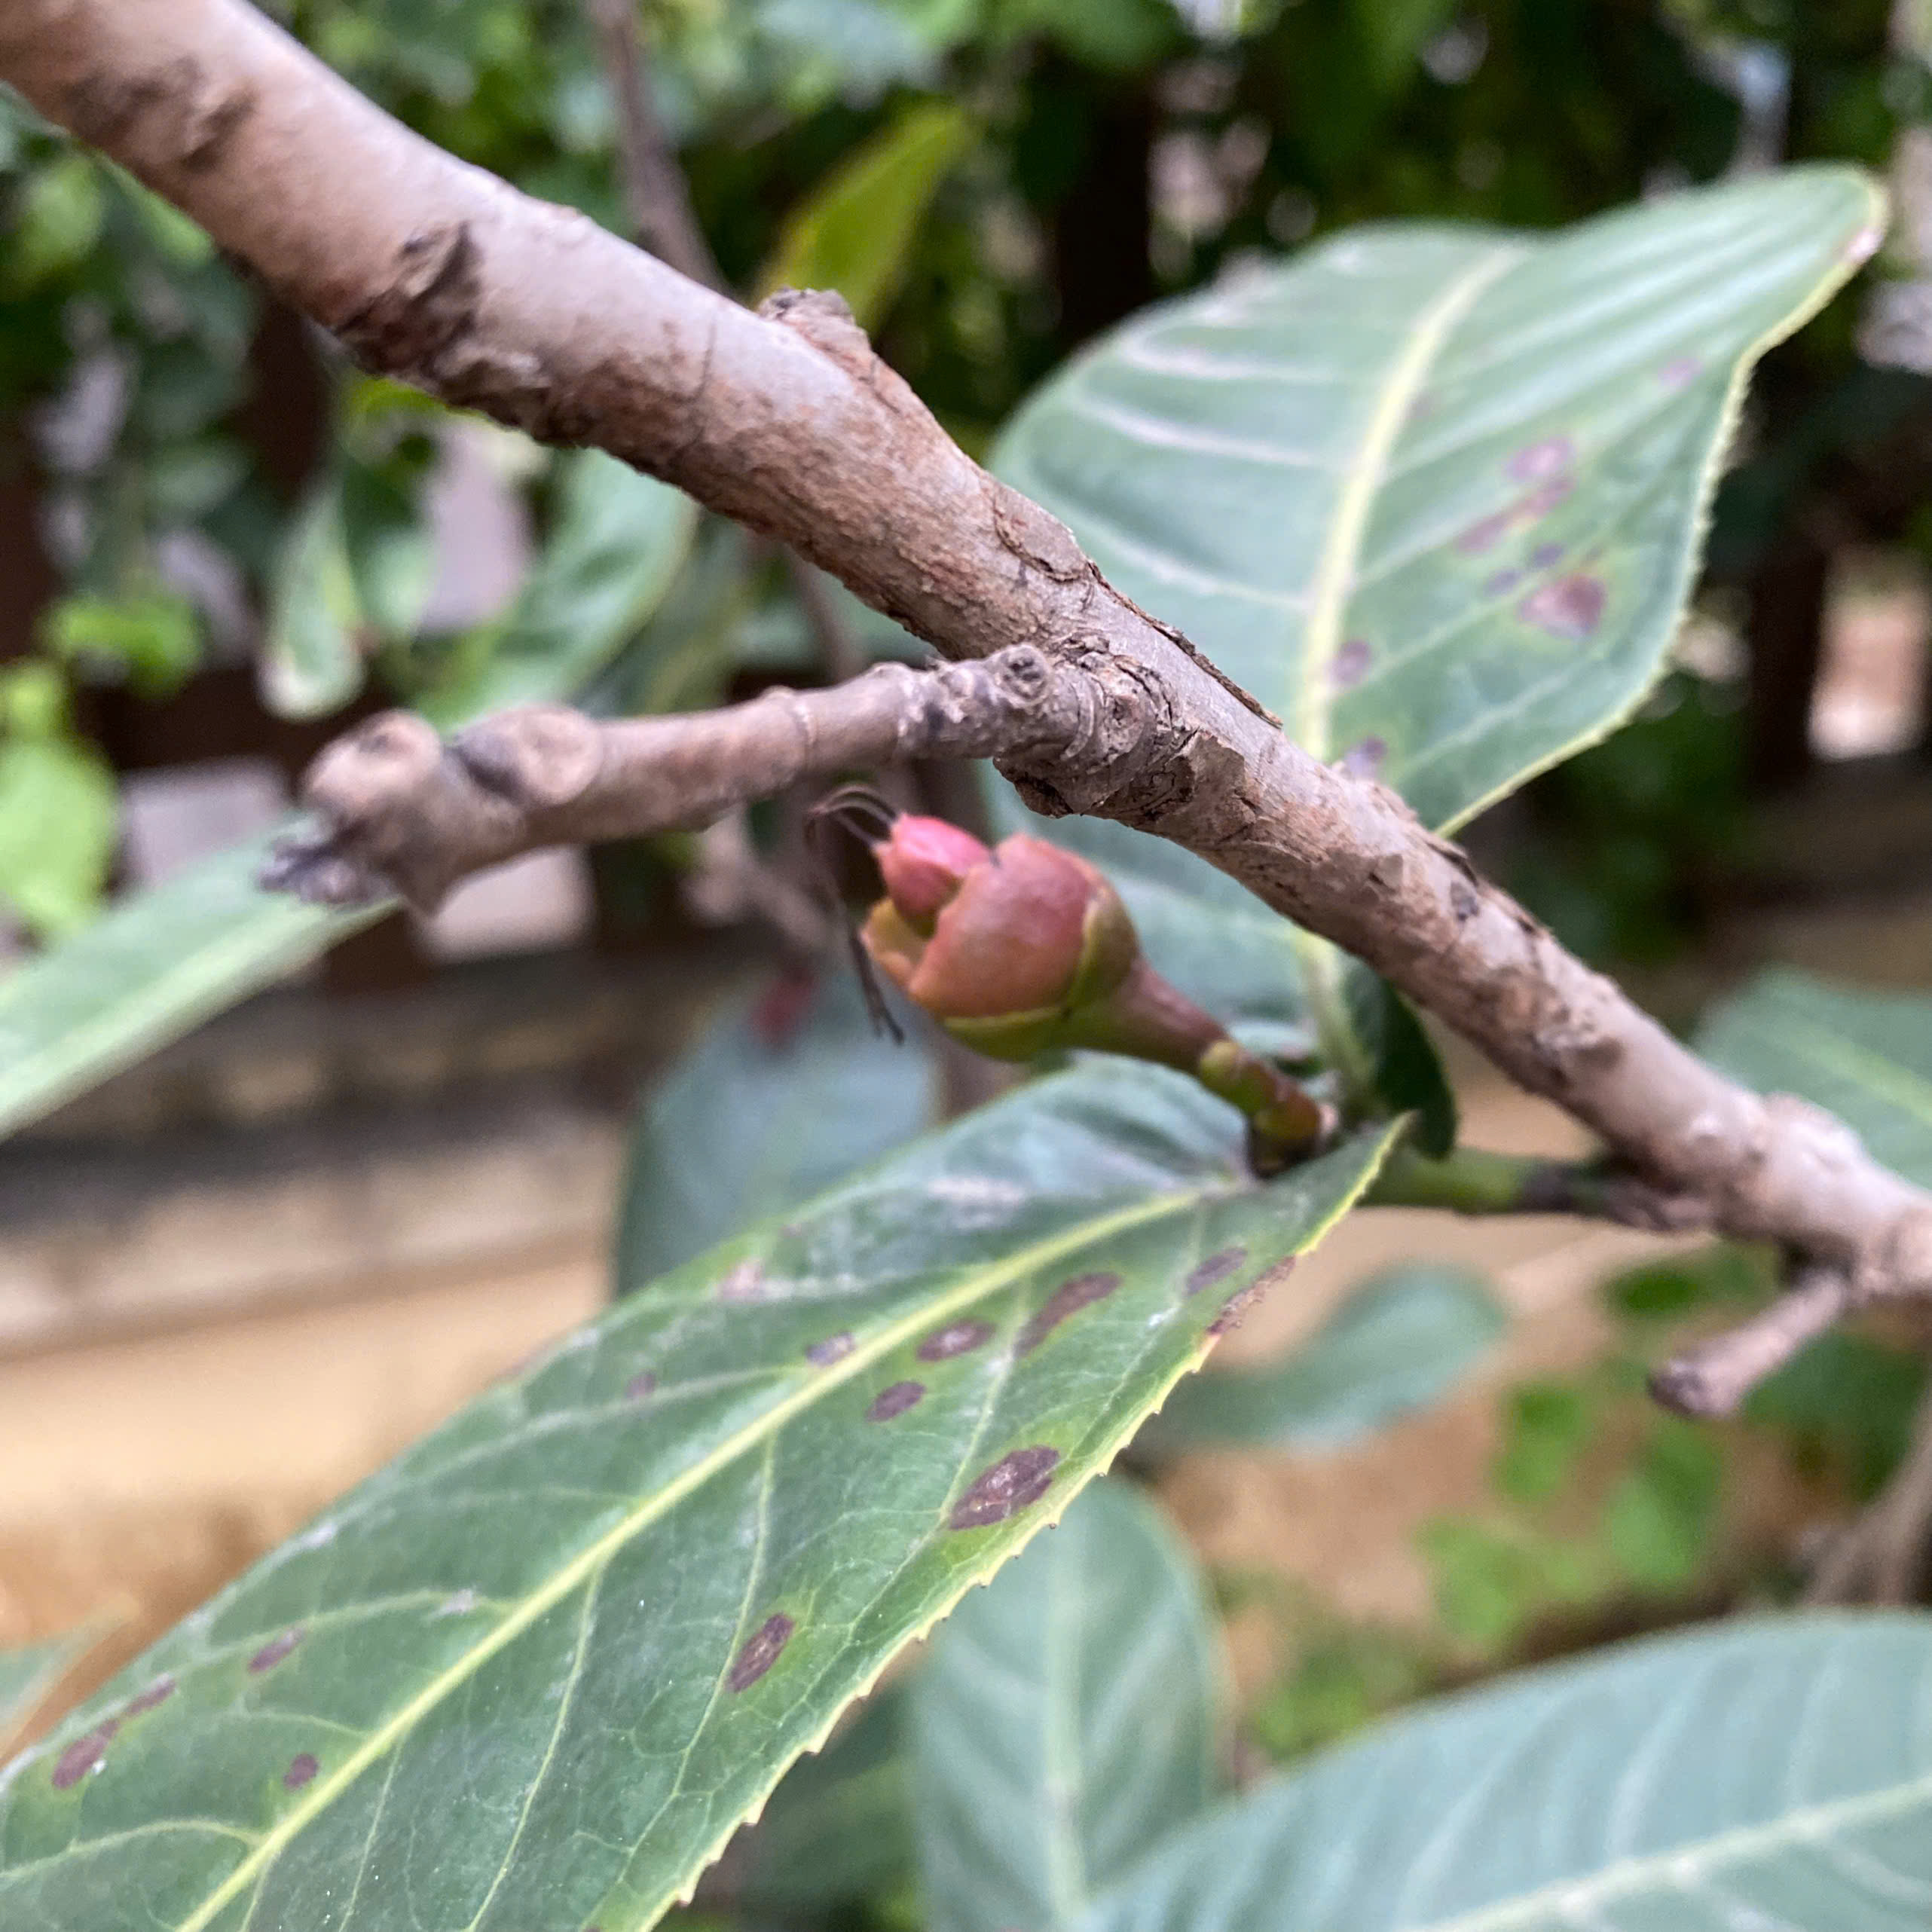hoa_hai_duong: (161, 225, 1932, 1479)
